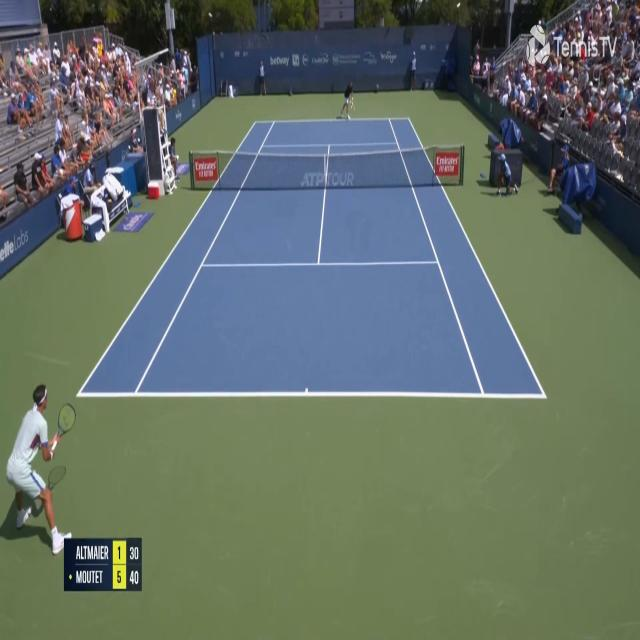tennis-player: (1, 379, 78, 550), (340, 79, 355, 122)
